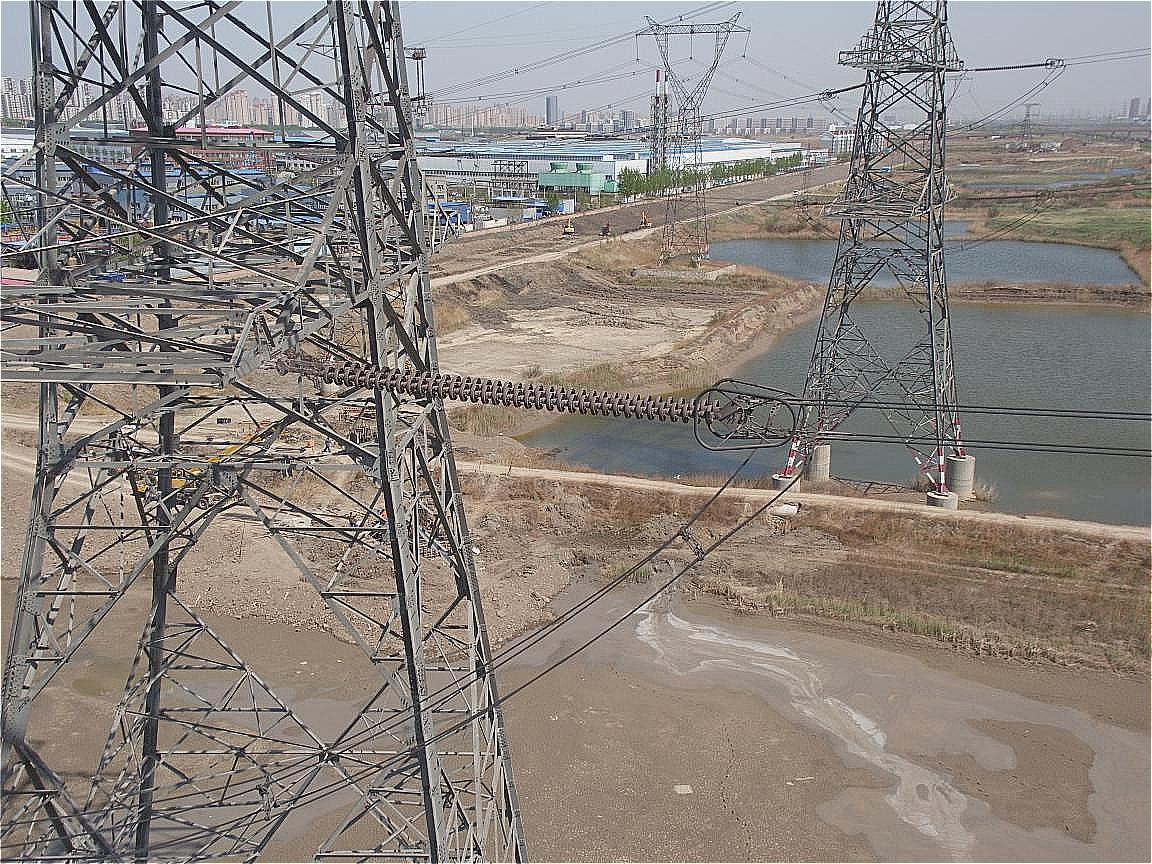insultor1: (297, 342, 726, 428)
